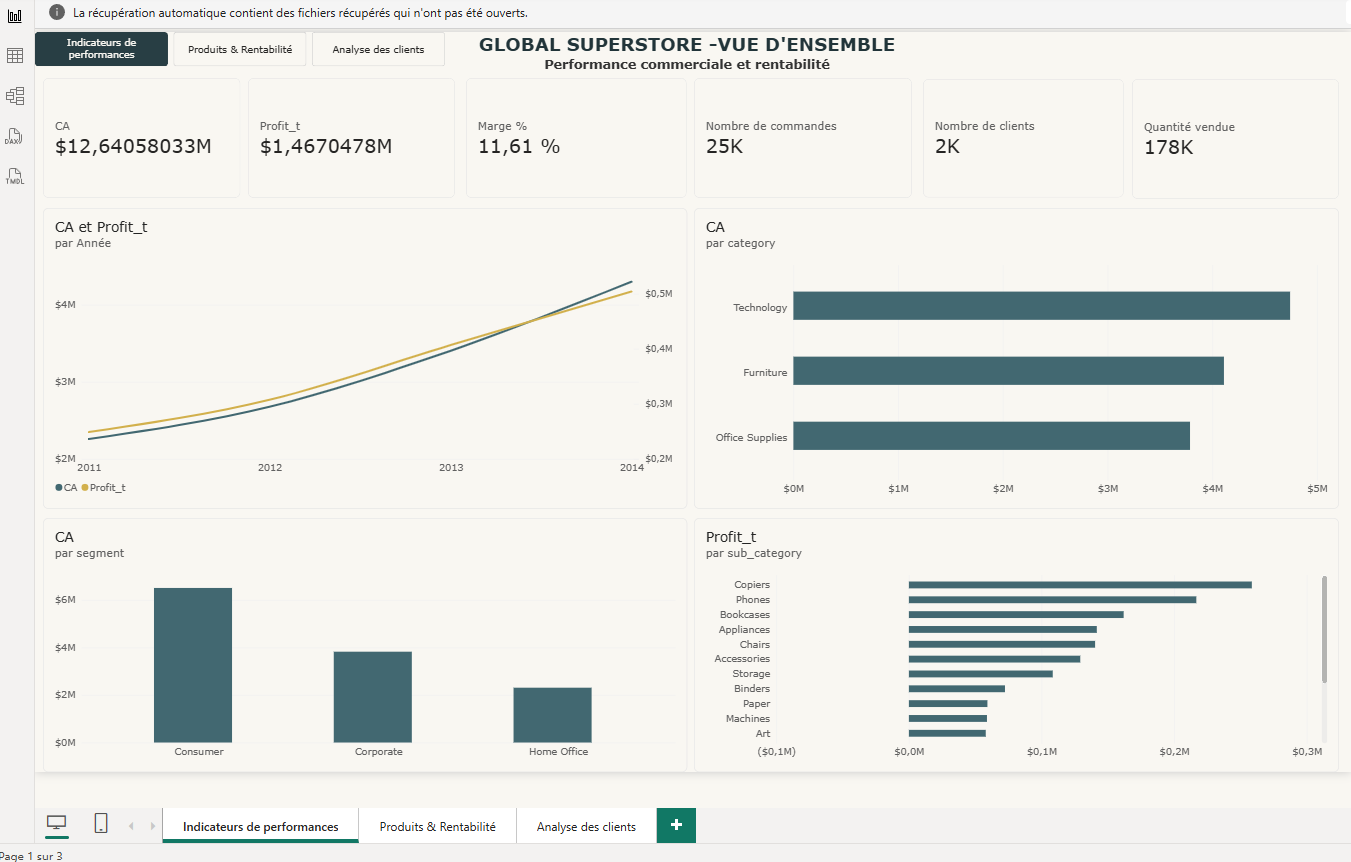

This screenshot's page, from the dashboard's own definition file:
{"tool":"powerbi","page":{"name":"Indicateurs de performances","canvas":[1920,1080],"ordinal":0},"visuals":[{"type":"cardVisual","fields":{"Data":["public superstore_clean.CA"]},"box":[11.7,67.1,288.9,175.1],"z":0},{"type":"cardVisual","fields":{"Data":["public superstore_clean.Profit_t"]},"box":[310.8,67.1,302,175.1],"z":1000},{"type":"cardVisual","fields":{"Data":["public superstore_clean.Marge %"]},"box":[628.8,67.1,322.4,175.1],"z":2000},{"type":"cardVisual","fields":{"Data":["public superstore_clean.Nombre de clients"]},"box":[1295.6,68.6,293.3,173.6],"z":3000},{"type":"cardVisual","fields":{"Data":["public superstore_clean.Quantité vendue"]},"box":[1600.5,68.6,302,175.1],"z":4000},{"type":"cardVisual","fields":{"Data":["public superstore_clean.Nombre de commandes"]},"box":[961.5,67.1,318.1,175.1],"z":5000},{"type":"lineChart","fields":{"Category":["public superstore_clean.order_date.Variation.Hiérarchie de dates.Année","public superstore_clean.order_date.Variation.Hiérarchie de dates.Trimestre","public superstore_clean.order_date.Variation.Hiérarchie de dates.Mois","public superstore_clean.order_date.Variation.Hiérarchie de dates.Jour"],"Y":["public superstore_clean.CA"],"Y2":["public superstore_clean.Profit_t"]},"box":[11.7,256.8,939.6,439.1],"z":6000},{"type":"clusteredBarChart","fields":{"Category":["public superstore_clean.sub_category"],"Y":["public superstore_clean.Profit_t"]},"box":[961.5,709.1,941,370.6],"z":7000},{"type":"clusteredBarChart","fields":{"Category":["public superstore_clean.category"],"Y":["public superstore_clean.CA"]},"box":[961.5,256.8,941,439.1],"z":8000},{"type":"clusteredColumnChart","fields":{"Category":["public superstore_clean.segment"],"Y":["public superstore_clean.CA"]},"box":[11.7,709.1,939.6,370.6],"z":9000},{"type":"textbox","title":"GLOBAL SUPERSTORE -VUE D''ENSEMBLE","box":[0,0,1902.5,54],"z":10000},{"type":"pageNavigator","box":[0,0,600,50],"z":10001}]}

Visuals, with their boxes on the page's 1920x1080 design canvas (x1, y1, x2, y2). These are canvas units, not pixel positions in the 1351x862 screenshot, which may show the page scaled, cropped or inside an application window:
cardVisual - public superstore_clean.CA: <region>12, 67, 301, 242</region>
cardVisual - public superstore_clean.Profit_t: <region>311, 67, 613, 242</region>
cardVisual - public superstore_clean.Marge %: <region>629, 67, 951, 242</region>
cardVisual - public superstore_clean.Nombre de clients: <region>1296, 69, 1589, 242</region>
cardVisual - public superstore_clean.Quantité vendue: <region>1600, 69, 1902, 244</region>
cardVisual - public superstore_clean.Nombre de commandes: <region>962, 67, 1280, 242</region>
lineChart - public superstore_clean.order_date.Variation.Hiérarchie de dates.Année x public superstore_clean.order_date.Variation.Hiérarchie de dates.Trimestre: <region>12, 257, 951, 696</region>
clusteredBarChart - public superstore_clean.sub_category x public superstore_clean.Profit_t: <region>962, 709, 1902, 1080</region>
clusteredBarChart - public superstore_clean.category x public superstore_clean.CA: <region>962, 257, 1902, 696</region>
clusteredColumnChart - public superstore_clean.segment x public superstore_clean.CA: <region>12, 709, 951, 1080</region>
"GLOBAL SUPERSTORE -VUE D''ENSEMBLE" textbox: <region>0, 0, 1902, 54</region>
pageNavigator: <region>0, 0, 600, 50</region>
